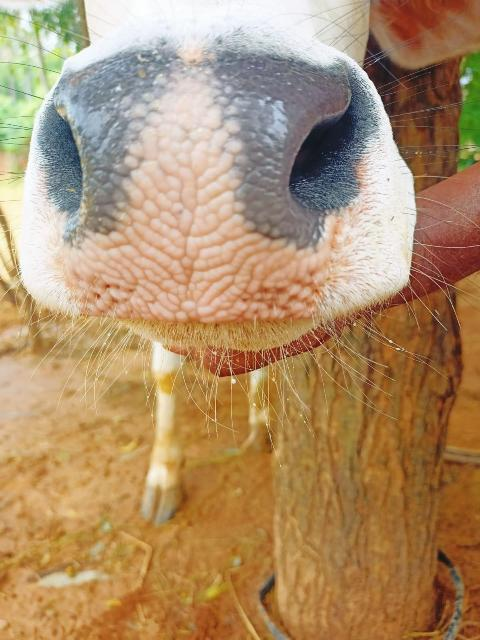Muzzle: (52, 81, 332, 317)
